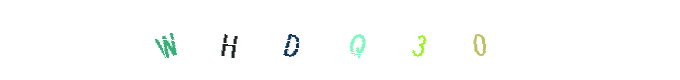0: (380, 0, 460, 80)
3: (378, 0, 458, 80)
D: (268, 0, 348, 80)
H: (222, 0, 302, 80)
Q: (300, 0, 380, 80)
W: (151, 0, 231, 80)
